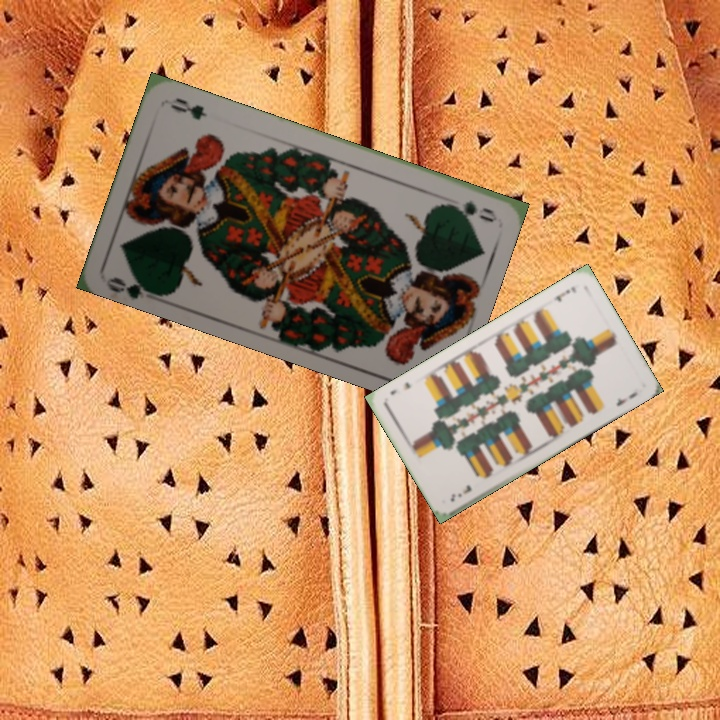E7: (446, 480, 474, 505), (549, 283, 579, 305)
GO: (103, 270, 162, 302), (438, 196, 498, 219)
